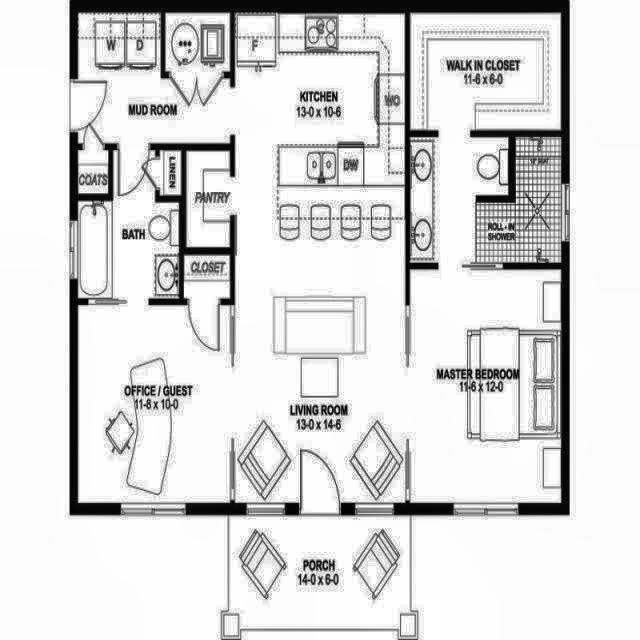room: (235, 13, 404, 501), (410, 269, 560, 502), (78, 305, 230, 504), (78, 11, 230, 143), (411, 139, 560, 261), (411, 14, 561, 128), (78, 151, 180, 297), (187, 152, 229, 247), (166, 12, 229, 70), (184, 255, 230, 298)
